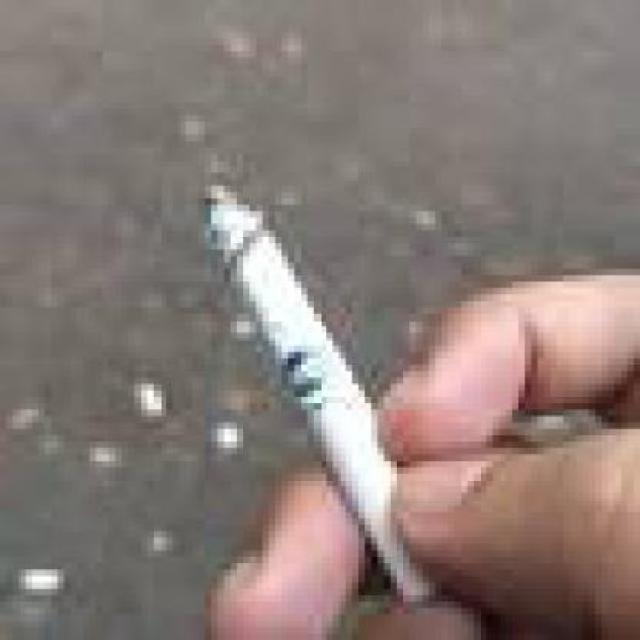cigarette: (159, 166, 455, 628)
